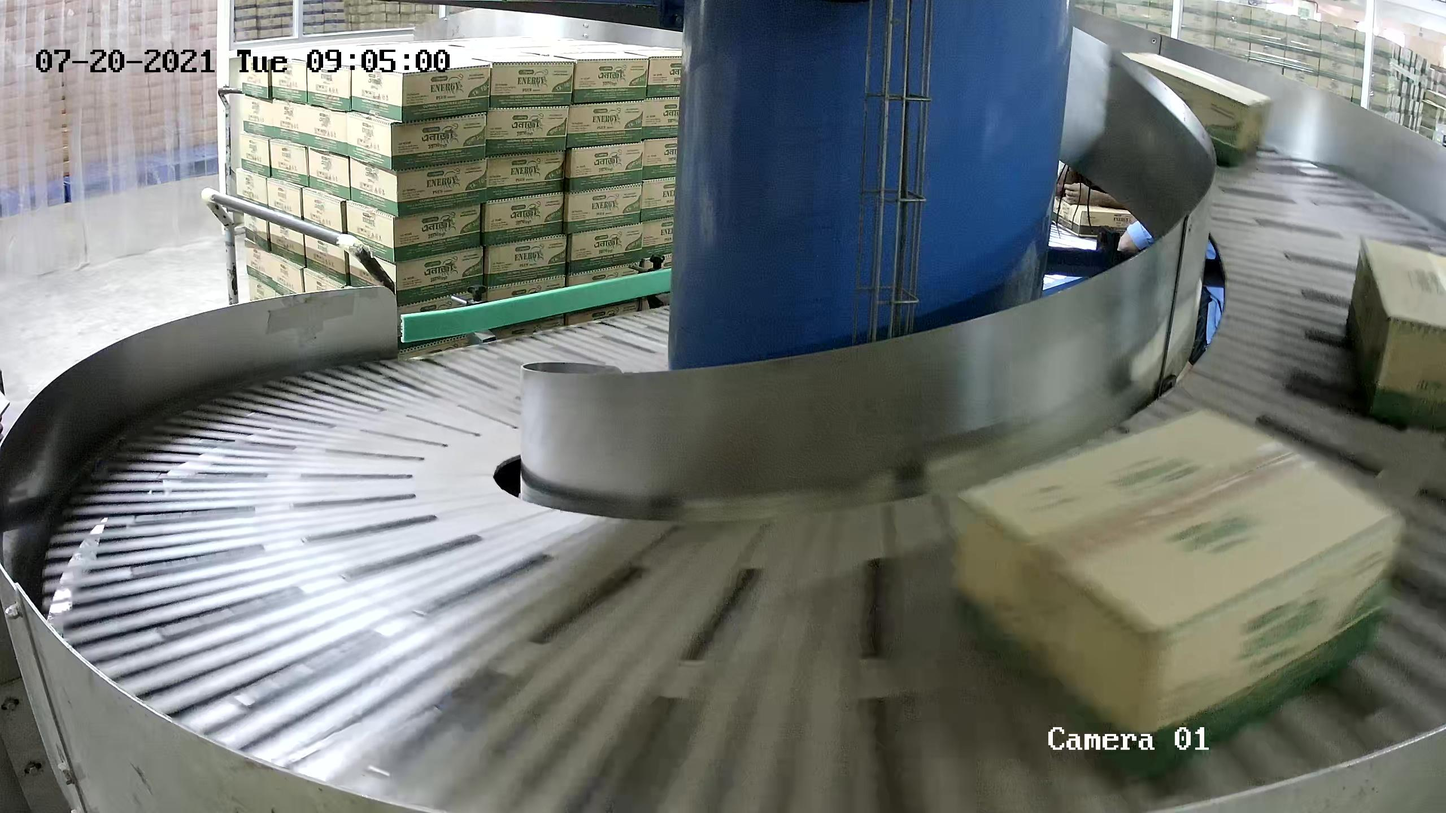Box: (955, 409, 1415, 775), (1344, 235, 1446, 436), (1104, 50, 1276, 169)
